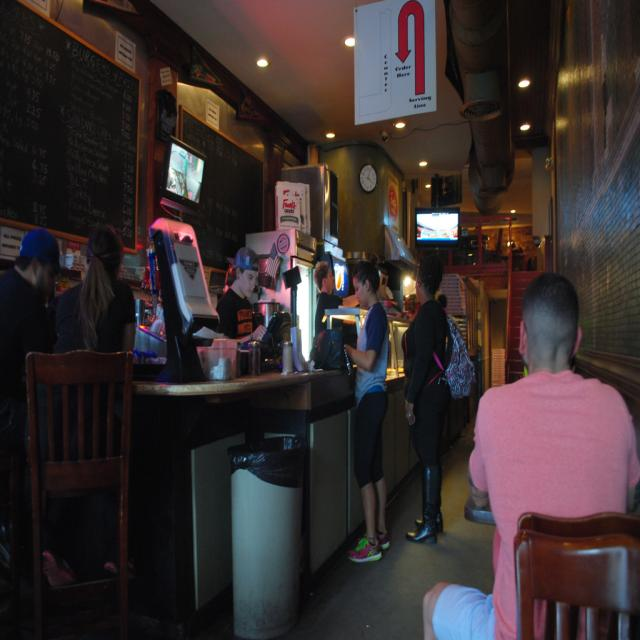chair: (23, 348, 134, 636), (514, 507, 640, 638)
desk: (132, 352, 354, 615)
person: (425, 269, 640, 637), (0, 227, 59, 578), (342, 261, 392, 563), (403, 252, 453, 546), (53, 224, 137, 355), (215, 247, 288, 341), (311, 260, 345, 348)
tv: (159, 133, 207, 215), (414, 208, 460, 248)
